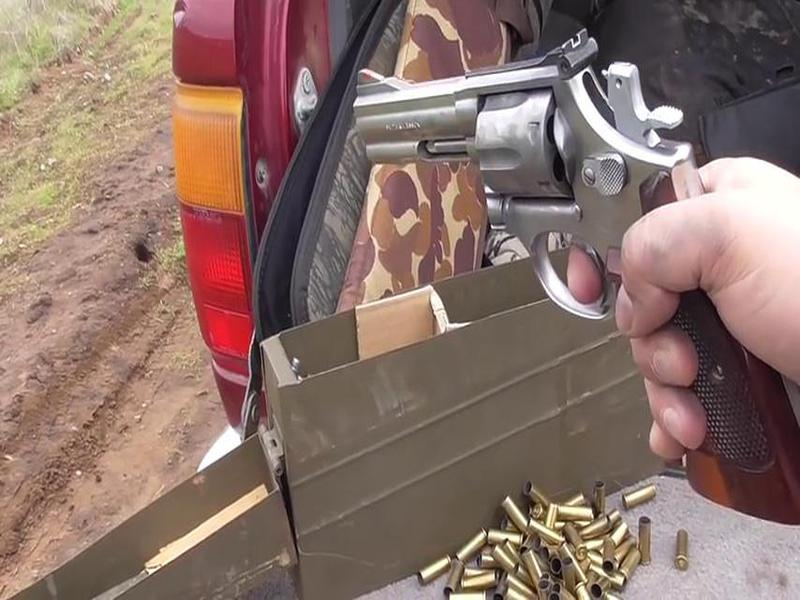Revolver: (320, 25, 781, 419)
